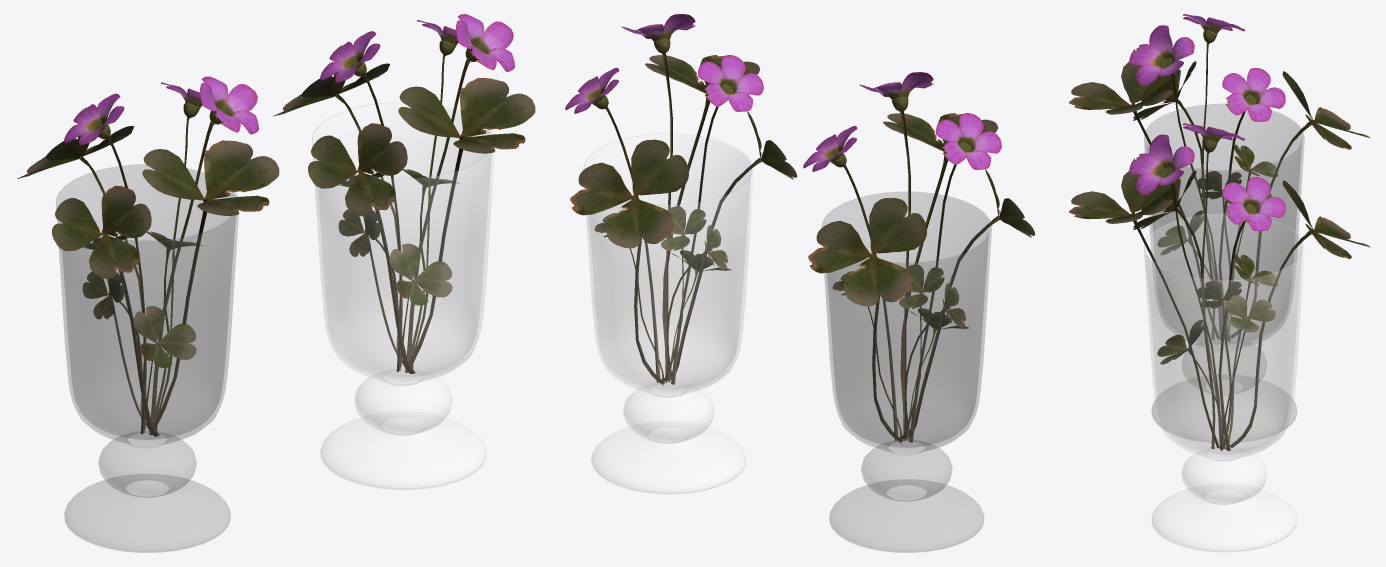
File: glass_vase_purple_flowers.glb
3 renders of one model, left to right at view 1: azimuth 30°, elevation 25°; view 2: azimuth 150°, elevation 25°; view 3: azimuth 270°, elevation 25°, orthographic. The views are drawn at different scales.
Visible parts, largest first — view 1: GlassAlpha, GlassTransmission, Flowers2, Flowers1; view 2: GlassAlpha, GlassTransmission, Flowers2, Flowers1; view 3: GlassTransmission, GlassAlpha, Flowers2, Flowers1.
Boxes of the visible parts, left/top/right/bottom form: GlassAlpha: left=56, top=164, right=238, bottom=552; GlassTransmission: left=312, top=102, right=494, bottom=490; Flowers2: left=273, top=14, right=535, bottom=373; Flowers1: left=17, top=76, right=279, bottom=436; GlassAlpha: left=822, top=192, right=991, bottom=552; GlassTransmission: left=584, top=133, right=753, bottom=494; Flowers2: left=565, top=14, right=797, bottom=385; Flowers1: left=803, top=72, right=1035, bottom=443; GlassTransmission: left=1144, top=213, right=1304, bottom=552; GlassAlpha: left=1144, top=104, right=1304, bottom=442; Flowers2: left=1069, top=123, right=1370, bottom=450; Flowers1: left=1069, top=14, right=1370, bottom=341.
Bounding box in the file's own units: 0.2173 × 0.2032 × 0.1425.
Materials: 3 (1 with a texture image).
